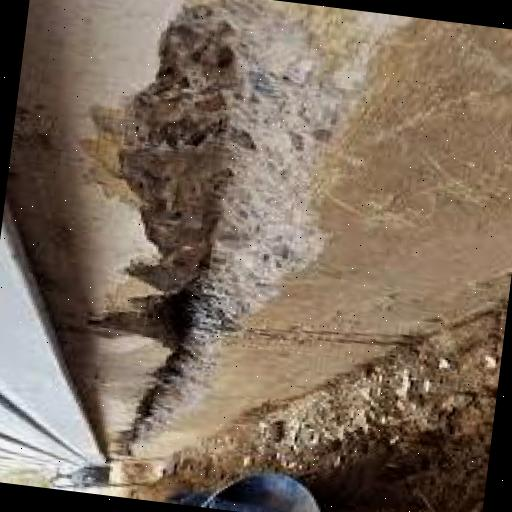spalling: (94, 6, 325, 410)
